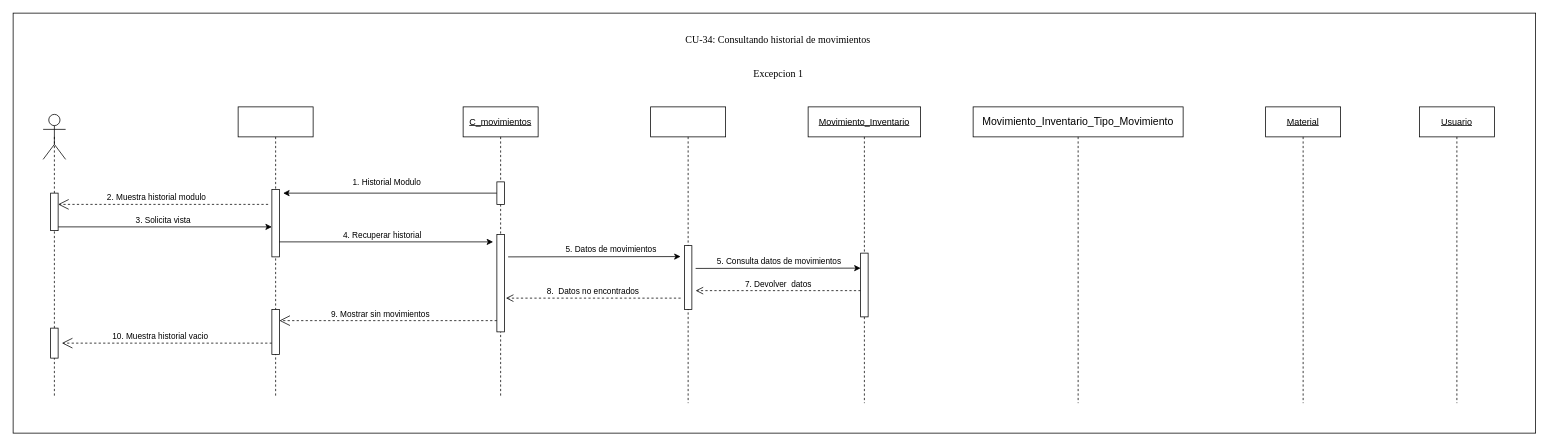
The diagram is 1549 pixels wide and 446 high, and some of its shapes have lost their labels. Each missing label, with the centre of its shape:
"C_Postgre" belongs at (688,254).
"Gerencia" belongs at (54,136).
"V_Movimientos" belongs at (275,251).
